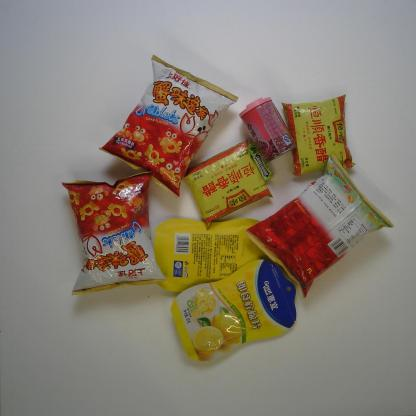Canned Food: (239, 96, 297, 164)
Dried Fruit: (170, 258, 297, 362), (153, 217, 279, 293)
Gum: (248, 141, 274, 182)
Puffed Food: (245, 153, 395, 298), (98, 52, 238, 200), (62, 168, 166, 296)
Seasoner: (182, 138, 272, 232), (280, 93, 356, 176)
